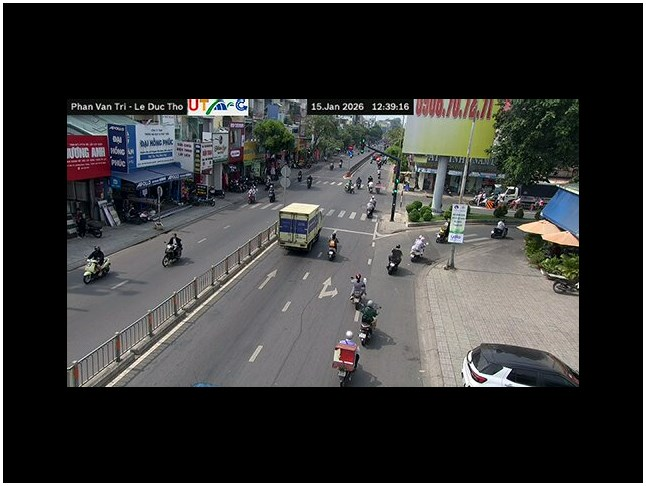bus: (278, 202, 324, 254)
car: (461, 343, 579, 386)
motorbike: (82, 247, 112, 284), (82, 258, 110, 284), (162, 235, 183, 267), (490, 219, 509, 239)
